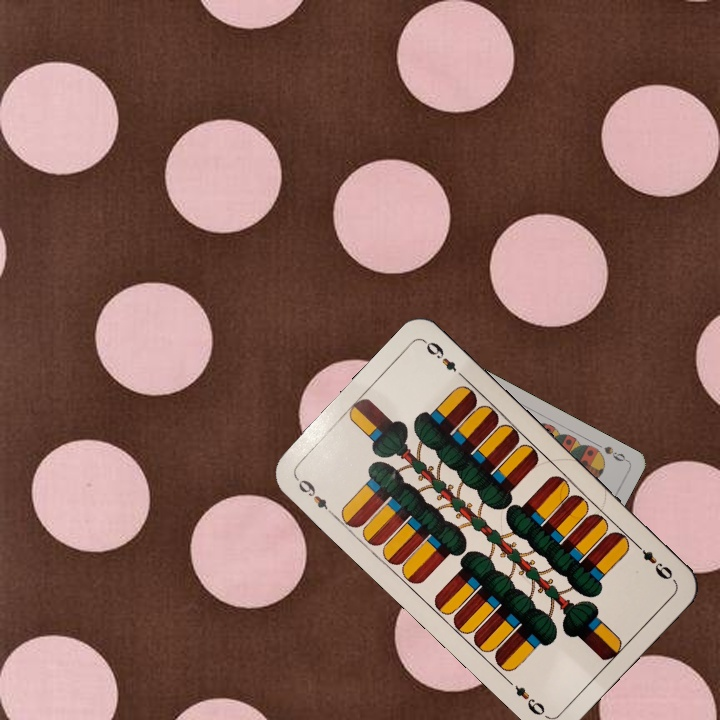E9: (630, 538, 677, 584), (292, 473, 338, 519)
S9: (600, 442, 631, 464)
